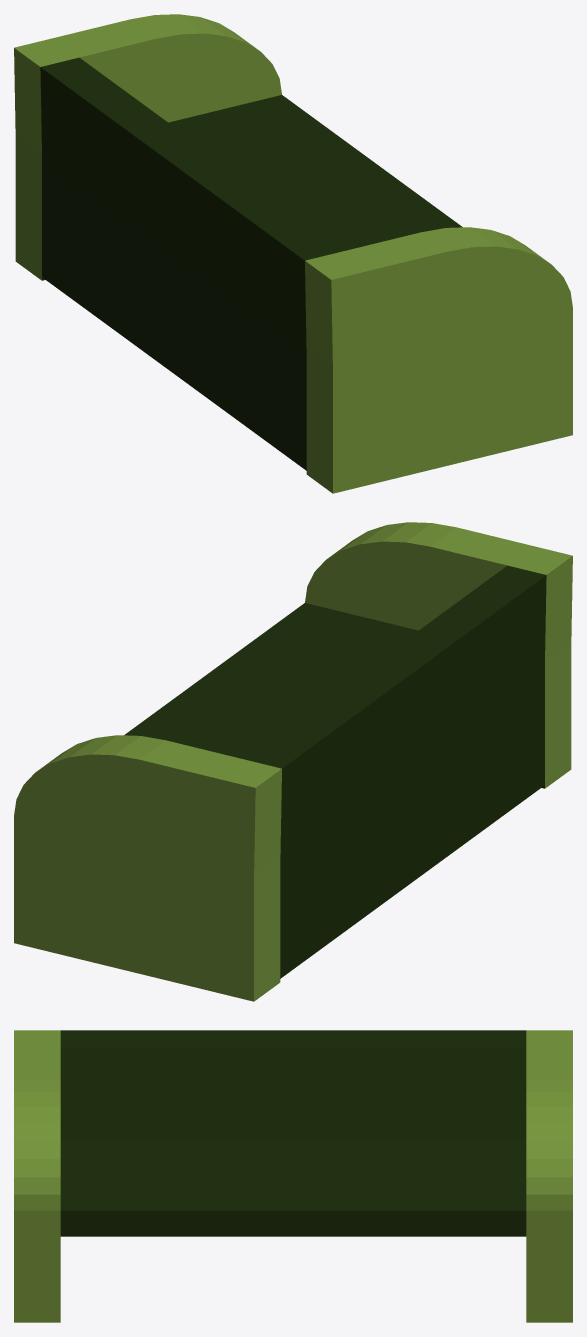
File: buitenbanken.fbx
3 views of the same model, one above another, from view 1: azimuth 30°, elevation 25°; view 2: azimuth 150°, elevation 25°; view 3: azimuth 270°, elevation 25° (orthographic). The views are drawn at different scales.
Parts seen in each view (by area): view 1: Cube; view 2: Cube; view 3: Cube.
Boxes of the visible parts, x1,y1,x2,y2 form: Cube: (14, 14, 572, 493); Cube: (14, 522, 572, 1001); Cube: (14, 1030, 572, 1322).
Size of the model in its own units: 407 by 345 by 927.
